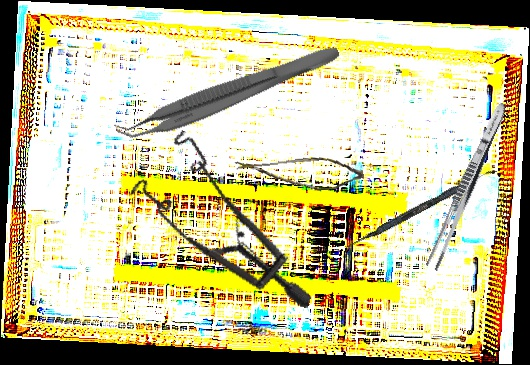Dressing Forceps: (424, 99, 511, 273)
Micro Scissor: (234, 146, 365, 201)
Spatula Surgical: (344, 163, 497, 254)
Speculum: (113, 121, 346, 309)
Tissue Forceps: (112, 30, 343, 153)
